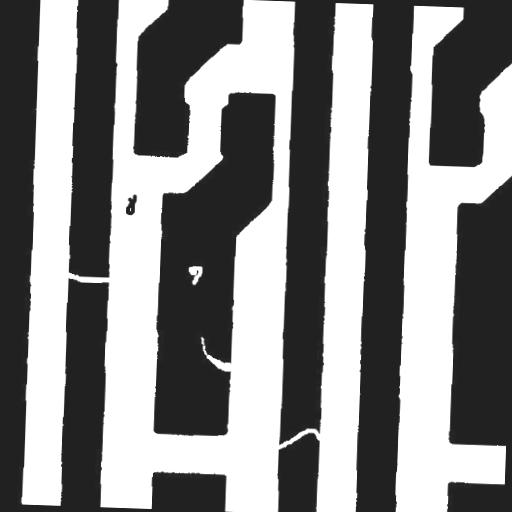copper: (117, 186, 144, 222)
mousebite: (190, 328, 240, 379)
open: (266, 419, 328, 458), (53, 264, 117, 290)
pin-hole: (180, 258, 210, 292)
